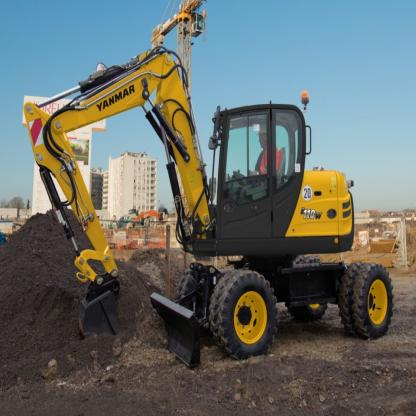excavator: (6, 28, 396, 378)
